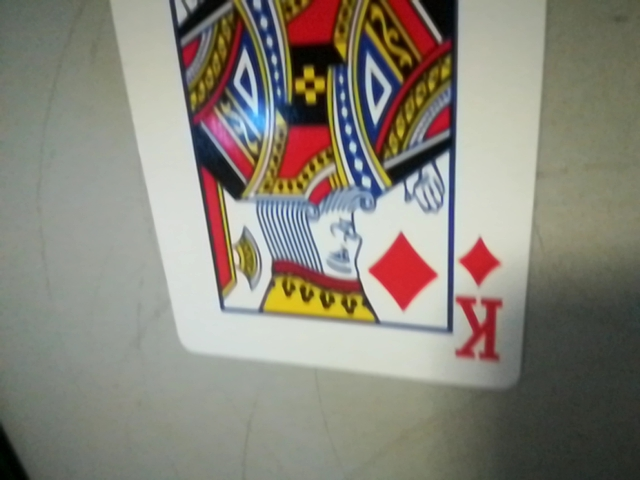fk k: (446, 232, 516, 373)
